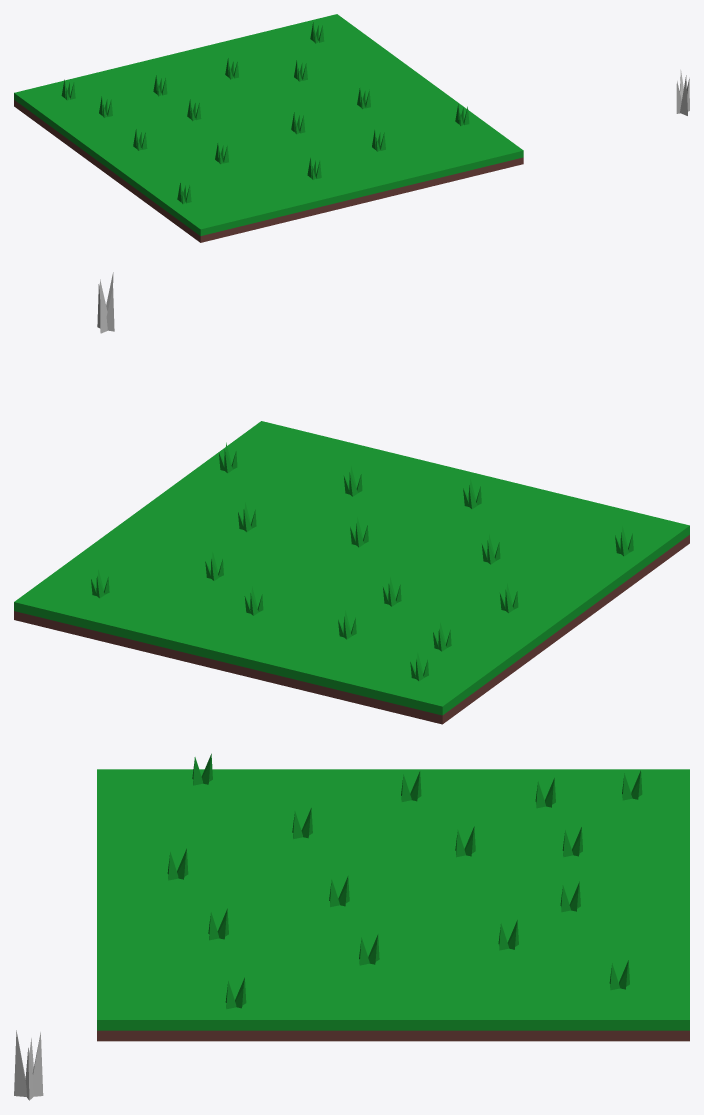
File: Piso(CloudyWithAChanceOfAsteroids) (1).fbx
3 views of the same model, one above another, from view 1: azimuth 30°, elevation 25°; view 2: azimuth 150°, elevation 25°; view 3: azimuth 270°, elevation 25° (orthographic). The views are drawn at different scales.
Parts seen in each view (by area): view 1: Cone, Detalle Pasto.008; view 2: Cone, Detalle Pasto.008; view 3: Cone, Detalle Pasto.008.
Part boxes in pixels (x1,y1,x2,y2): Cone: (14,14,523,242); Detalle Pasto.008: (676,70,689,115); Cone: (14,421,689,724); Detalle Pasto.008: (97,272,114,333); Cone: (97,753,689,1041); Detalle Pasto.008: (14,1030,43,1100).
Size of the model in its own units: 3621 by 549 by 2850.
